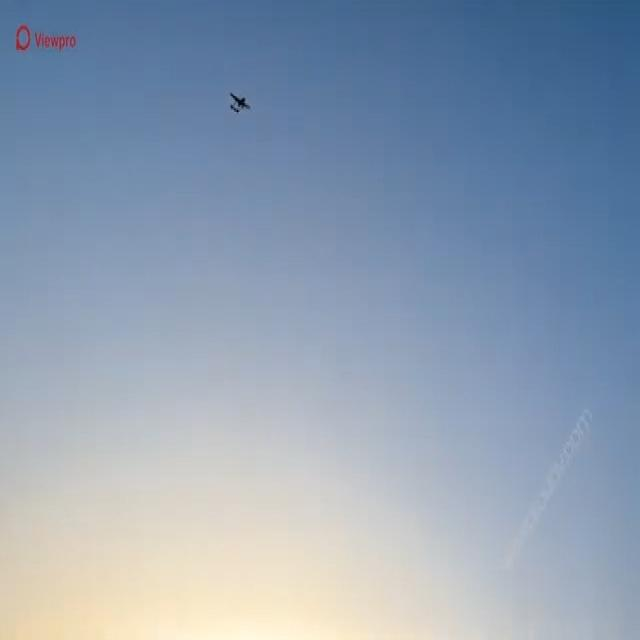drones: (224, 80, 254, 125)
